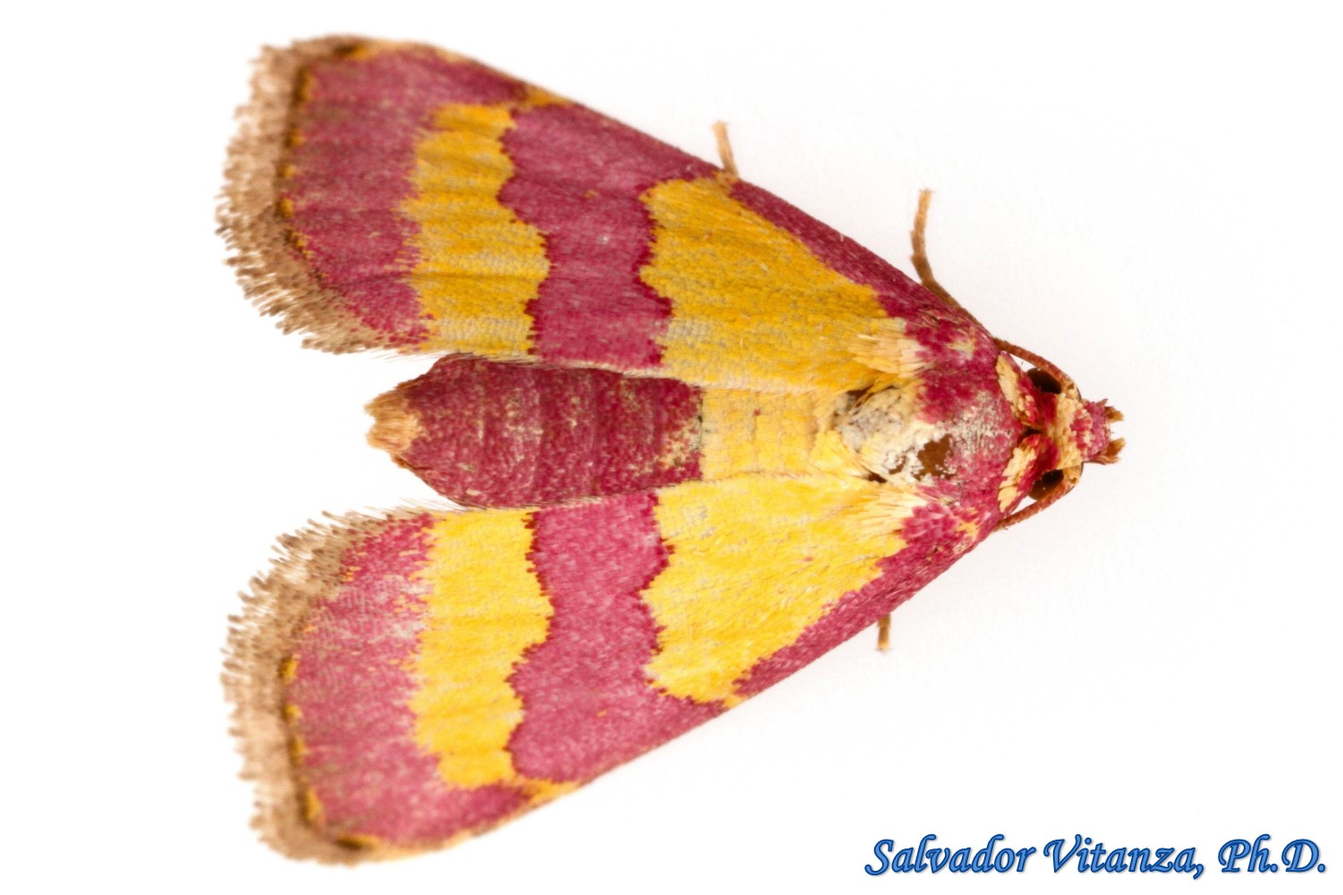Noctuidae: (217, 32, 1133, 865)
